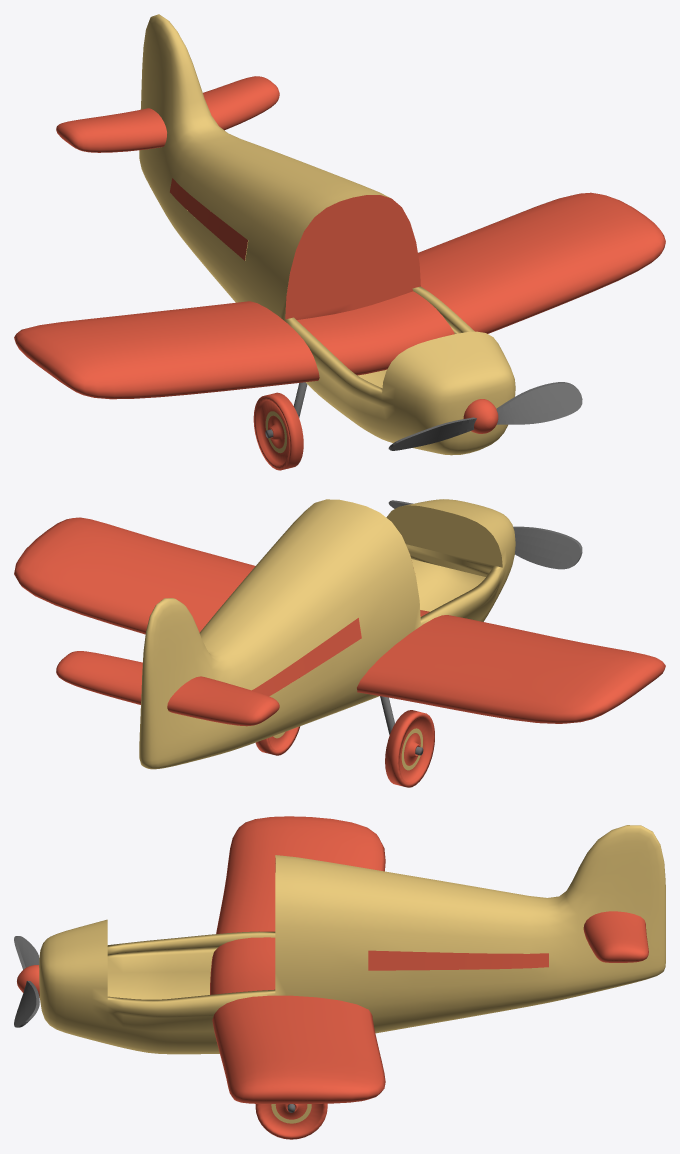
Rendered from airplane2.glb.
The picture shows the model from 3 angles, top to bottom: view 1: azimuth 30°, elevation 25°; view 2: azimuth 150°, elevation 25°; view 3: azimuth 270°, elevation 25°; orthographic projection. The views are drawn at different scales.
Parts seen in each view (by area): view 1: Airplane, Plane.003, Propeller; view 2: Airplane, Plane.003; view 3: Airplane, Plane.003.
Boxes of the visible parts, box(x1,y1,x2,y2) form: Airplane: box(14, 14, 665, 470); Plane.003: box(388, 382, 582, 450); Propeller: box(463, 399, 498, 433); Airplane: box(14, 499, 665, 787); Plane.003: box(388, 500, 582, 569); Airplane: box(39, 816, 665, 1139); Plane.003: box(14, 936, 39, 1027).
Size of the model in its own units: 4.06 by 1.93 by 4.06.
